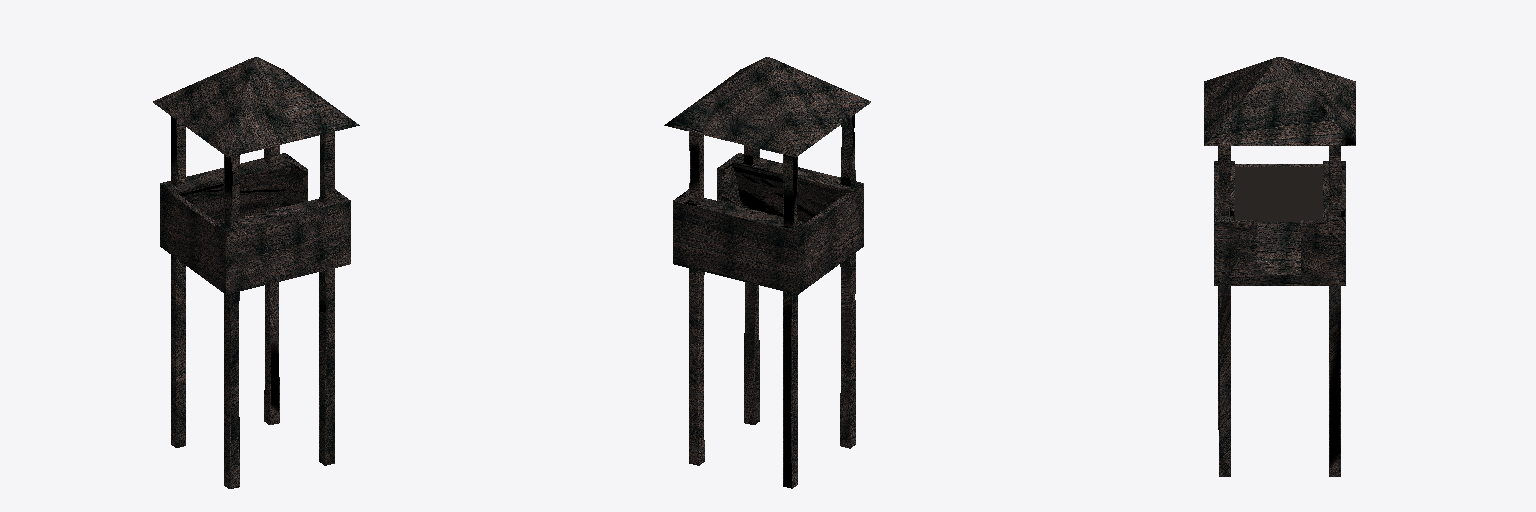
The picture shows the model from 3 angles: view 1: azimuth 30°, elevation 25°; view 2: azimuth 150°, elevation 25°; view 3: azimuth 270°, elevation 25°; orthographic projection.
Parts seen in each view (by area): view 1: Plane; view 2: Plane; view 3: Plane.
Boxes of the visible parts, box(x1,y1,x2,y2) form: Plane: box(153, 57, 359, 488); Plane: box(664, 57, 870, 488); Plane: box(1204, 57, 1355, 476).
Size of the model in its own units: 2.3 by 6.57 by 2.3.
1 materials, 1 textured.